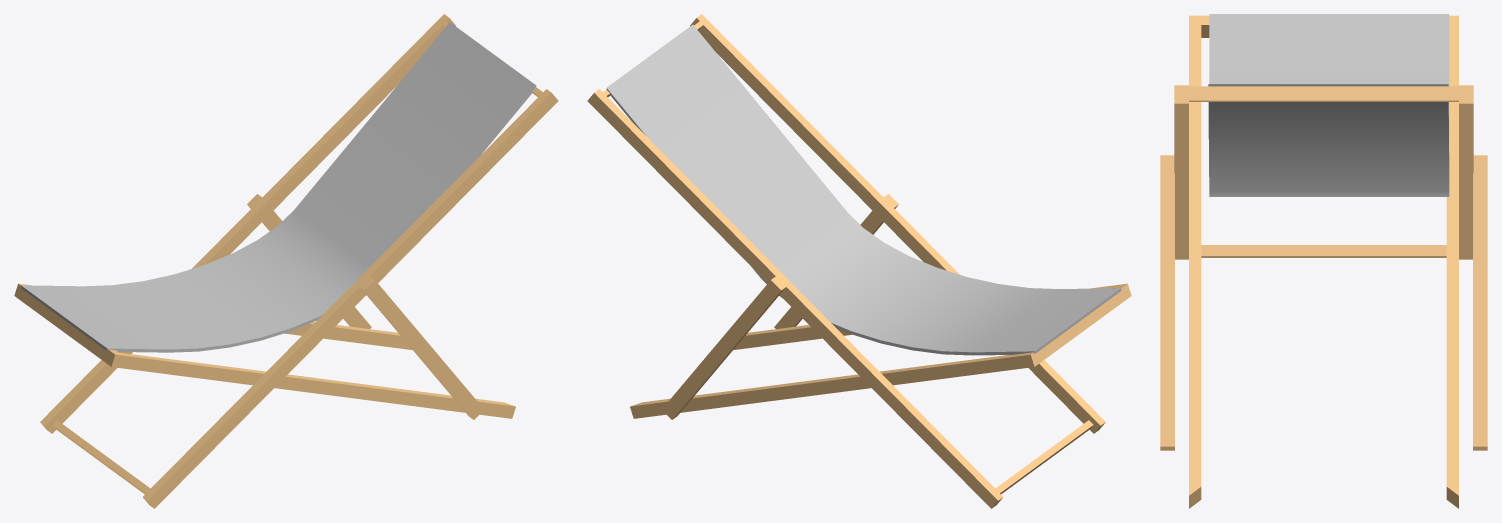
Rendered from sunchair.fbx.
3 renders of one model, left to right at view 1: azimuth 30°, elevation 25°; view 2: azimuth 150°, elevation 25°; view 3: azimuth 270°, elevation 25°, orthographic. The views are drawn at different scales.
Visible parts, largest first — view 1: Cube.042, Cube.038, Plane.001, Cube.041, Cube.040; view 2: Cube.042, Cube.038, Plane.001, Cube.041, Cube.040; view 3: Cube.042, Plane.001, Cube.041, Cube.040, Cube.038.
Boxes of the visible parts, left/top/right/bottom form: Cube.042: left=21, top=22, right=536, bottom=352; Cube.038: left=40, top=14, right=558, bottom=508; Plane.001: left=14, top=283, right=515, bottom=418; Cube.041: left=247, top=194, right=484, bottom=419; Cube.040: left=52, top=21, right=542, bottom=494; Cube.042: left=606, top=24, right=1121, bottom=355; Cube.038: left=587, top=14, right=1105, bottom=508; Plane.001: left=630, top=283, right=1131, bottom=418; Cube.041: left=661, top=194, right=898, bottom=419; Cube.040: left=603, top=21, right=1093, bottom=494; Cube.042: left=1208, top=14, right=1449, bottom=196; Plane.001: left=1189, top=15, right=1458, bottom=508; Cube.041: left=1160, top=155, right=1487, bottom=450; Cube.040: left=1189, top=86, right=1458, bottom=257; Cube.038: left=1174, top=85, right=1473, bottom=259.
Size of the model in its own units: 94.77 by 43.73 by 65.9.
